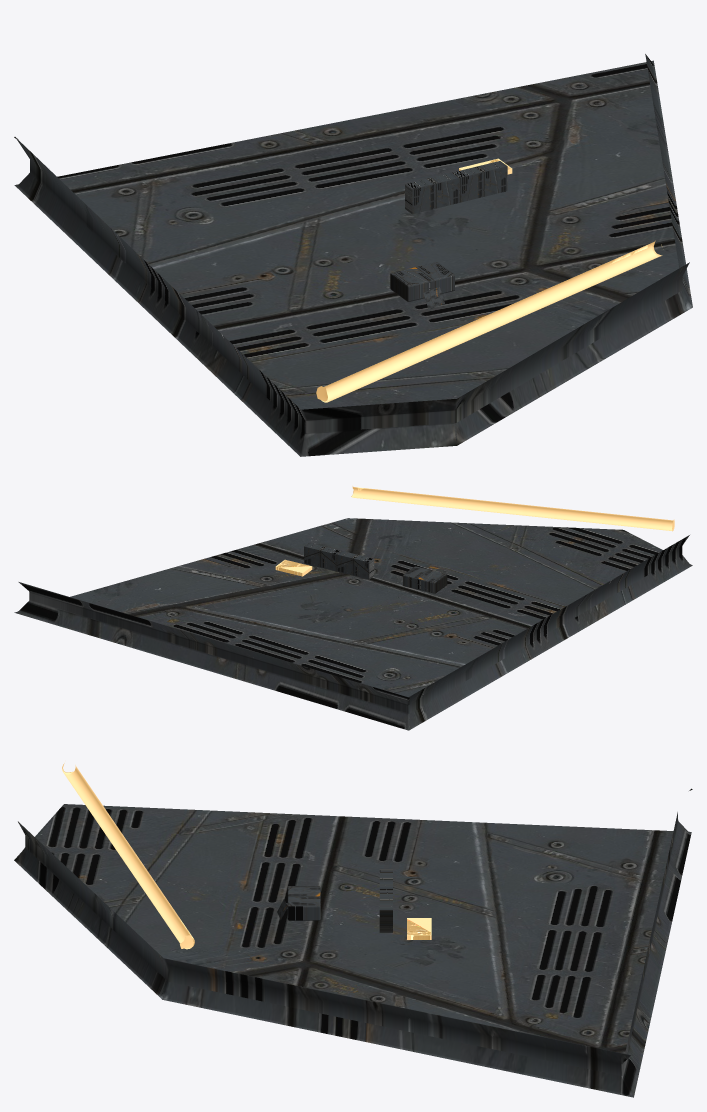
File: fin_wedge.glb
3 renders of one model, top to bottom at view 1: azimuth 30°, elevation 25°; view 2: azimuth 150°, elevation 25°; view 3: azimuth 270°, elevation 25°, orthographic. The views are drawn at different scales.
Visible parts, largest first — view 1: Wedge_Main, Wedge_Edge_Light, DET_radiator_slit, DET_mount_bracket; view 2: Wedge_Main, Wedge_Edge_Light, DET_radiator_slit, DET_mount_bracket, DET_wear_patch; view 3: Wedge_Main, Wedge_Edge_Light, DET_mount_bracket, DET_radiator_slit, DET_wear_patch.
Part boxes in pixels (box(x1,y1,x2,y2)): Wedge_Main: box(14, 54, 692, 456); Wedge_Edge_Light: box(316, 240, 662, 402); DET_radiator_slit: box(405, 161, 507, 214); DET_mount_bracket: box(390, 262, 454, 301); Wedge_Main: box(14, 518, 692, 730); Wedge_Edge_Light: box(351, 486, 674, 531); DET_radiator_slit: box(304, 543, 374, 579); DET_mount_bracket: box(403, 566, 447, 593); DET_wear_patch: box(275, 559, 312, 576); Wedge_Main: box(14, 788, 692, 1097); Wedge_Edge_Light: box(62, 763, 194, 949); DET_mount_bracket: box(287, 886, 320, 920); DET_radiator_slit: box(379, 868, 392, 932); DET_wear_patch: box(407, 918, 431, 939).
Size of the model in its own units: 4.23 by 0.4852 by 4.13.
3 materials, 3 textured.
